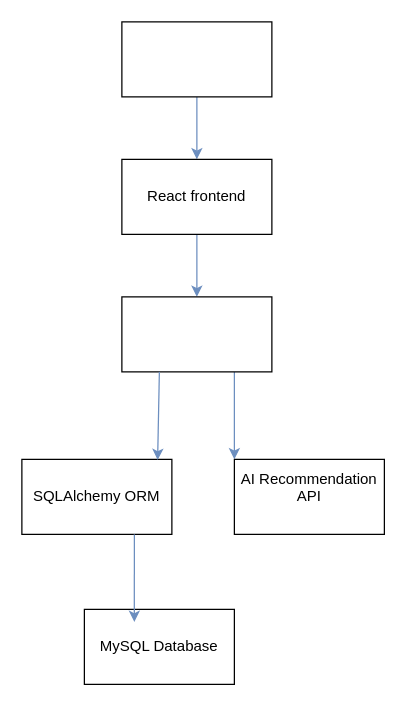
This 406x706 diagram has some shape labels left out. Each missing label, with the centre of its shape:
"Fast API backend" goes at [196,334].
"User" goes at [196,59].
